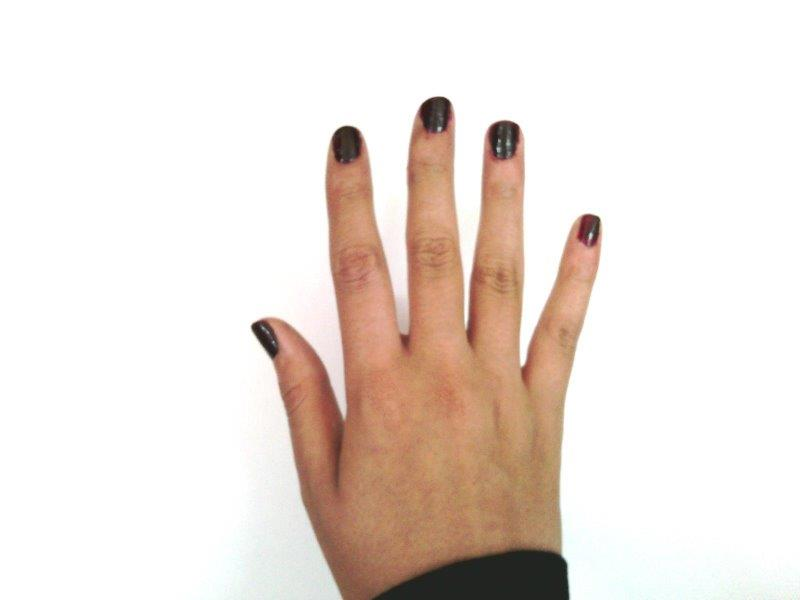hand: (251, 99, 598, 574)
